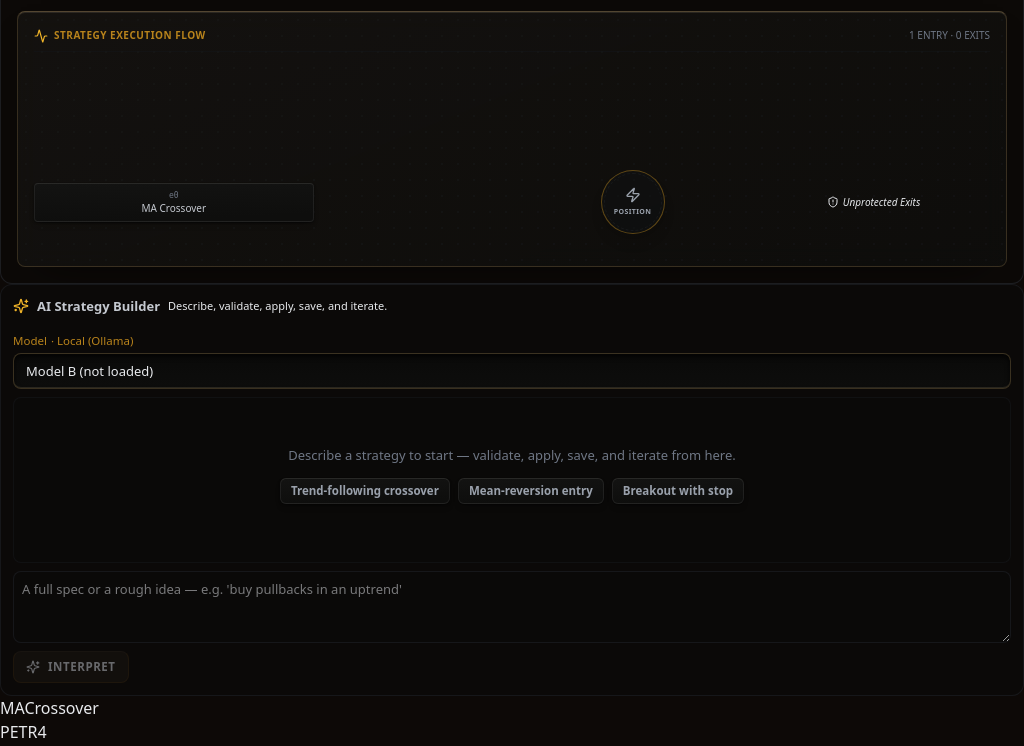
Test: AiStrategyPanel in StrategyStudio › Ask AI to fix resubmits with validation errors
(page scrolled)
Expected: the element with test id "ai-strategy-panel" is shown, [0, 284, 1023, 696]
Type "Use an invalid timeframe" into the text box with test id "ai-strategy-message" at (512, 607), box [13, 571, 1011, 643]
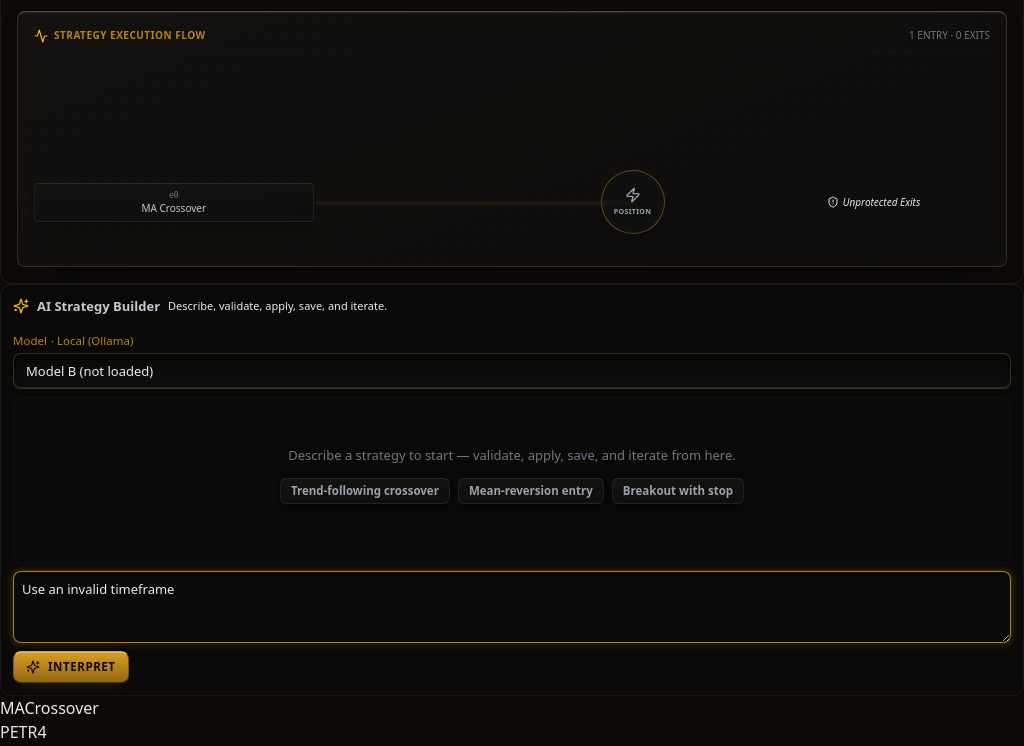
Click the button with test id "ai-strategy-submit" at (71, 667), box [13, 651, 129, 683]
(page scrolled)
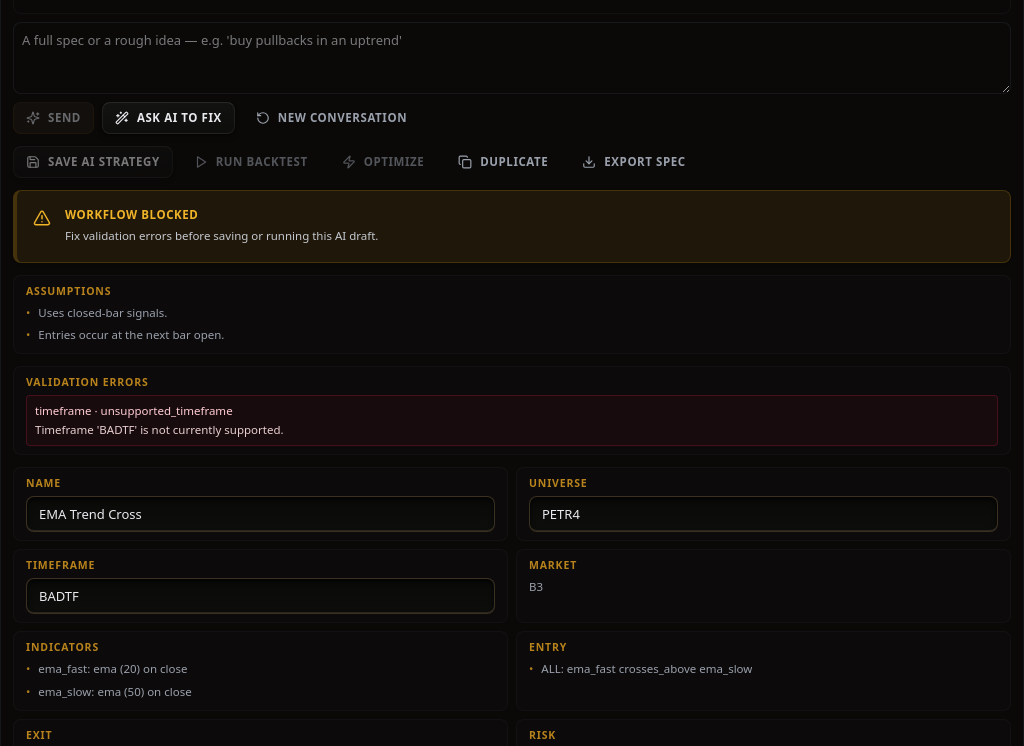
Expected: the button with test id "ai-strategy-ask-fix" is shown
Click the button with test id "ai-strategy-ask-fix" at (168, 118), box [102, 102, 235, 134]
(page scrolled)
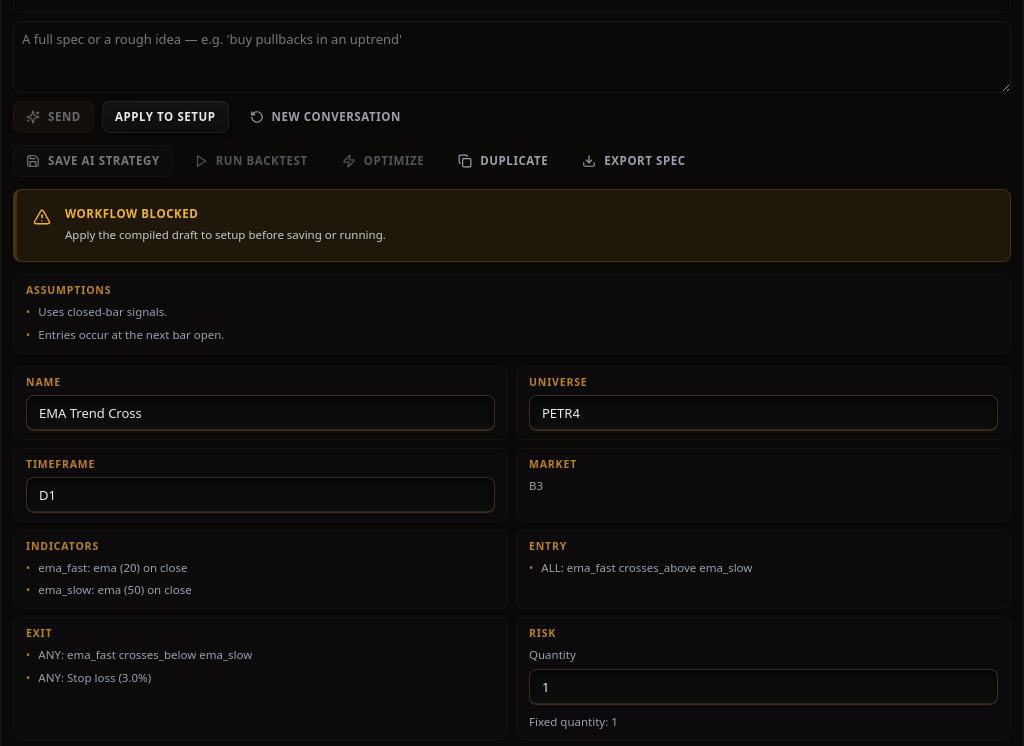
Expected: the button with test id "ai-strategy-apply" is shown, [102, 101, 229, 133]
